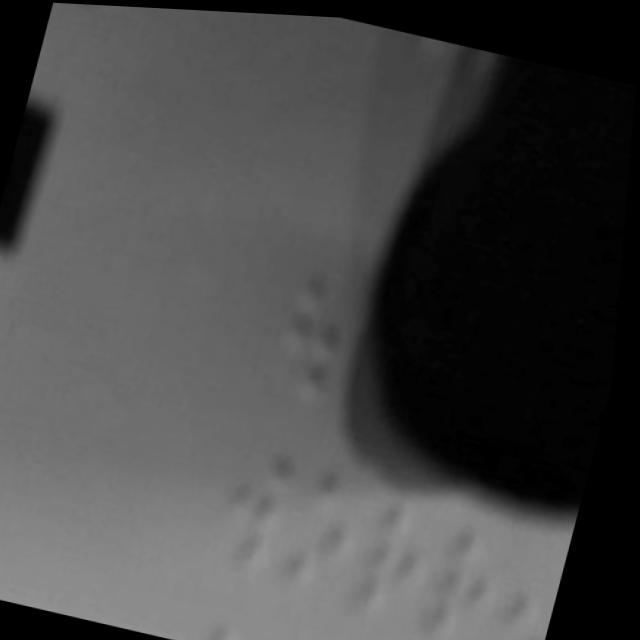braiile: (211, 435, 311, 590), (282, 454, 386, 601), (262, 263, 360, 418), (353, 483, 451, 632), (422, 510, 529, 640)
